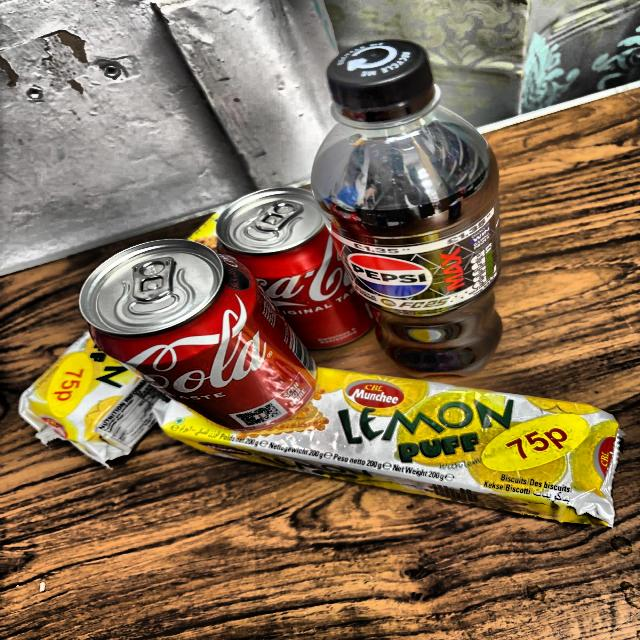coke-can: (91, 248, 328, 424), (227, 180, 357, 352)
lemon puff: (168, 336, 619, 542), (38, 282, 150, 466)
pepsi-bottle: (328, 40, 504, 378)
